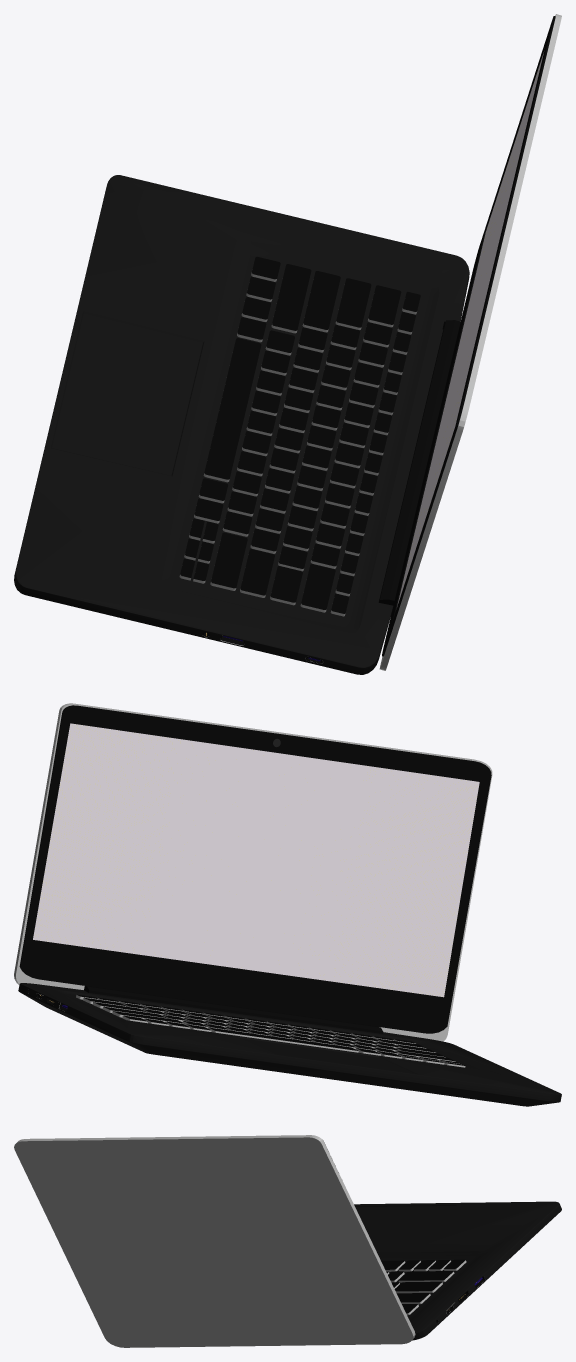
Rendered from laptop.glb.
The picture shows the model from 3 angles, top to bottom: view 1: azimuth 30°, elevation 25°; view 2: azimuth 150°, elevation 25°; view 3: azimuth 270°, elevation 25°; orthographic projection. The views are drawn at different scales.
Visible parts, largest first — view 1: body, keyboard, screen; view 2: body, keyboard, screen; view 3: screen, body, keyboard.
Part boxes in pixels (x1,y1,x2,y2): body: (14,16,555,674); keyboard: (179,256,420,616); screen: (379,14,561,670); body: (18,705,561,1106); keyboard: (76,994,465,1067); screen: (14,703,492,1041); screen: (14,1135,415,1347); body: (323,1140,561,1340); keyboard: (381,1259,466,1315).
Bounding box in the file's own units: 0.5646 × 0.4272 × 0.6694.
Materials: 5 (2 with a texture image).
